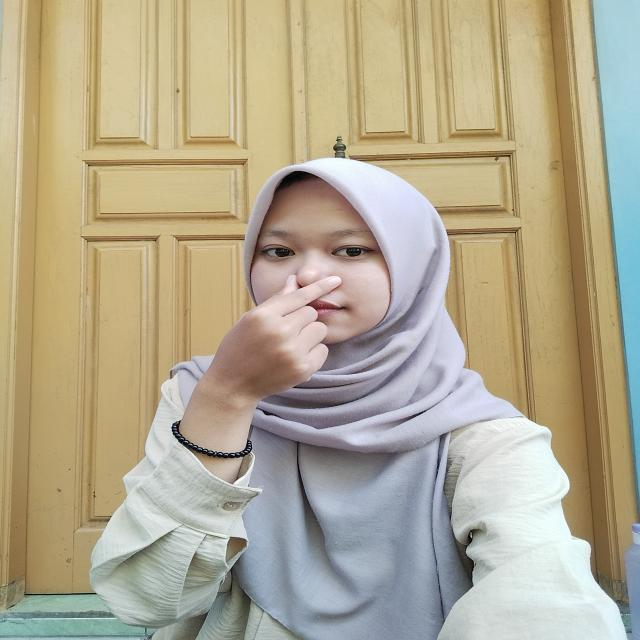bau: (208, 263, 371, 410)
